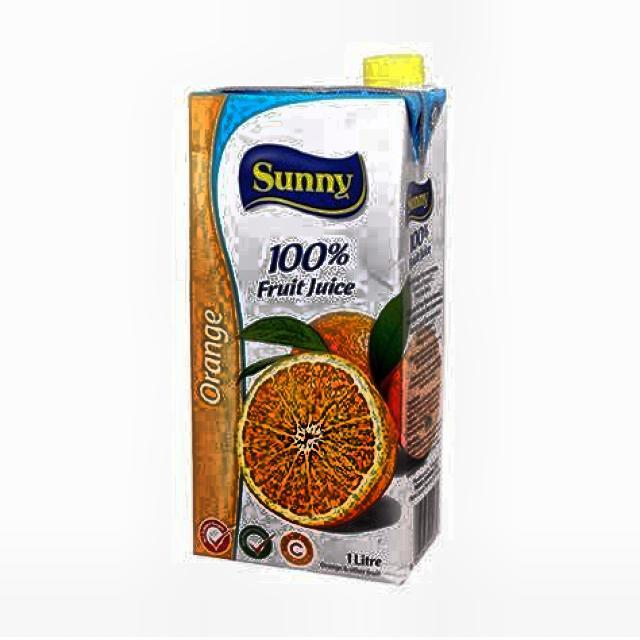cardboard: (186, 79, 447, 584)
